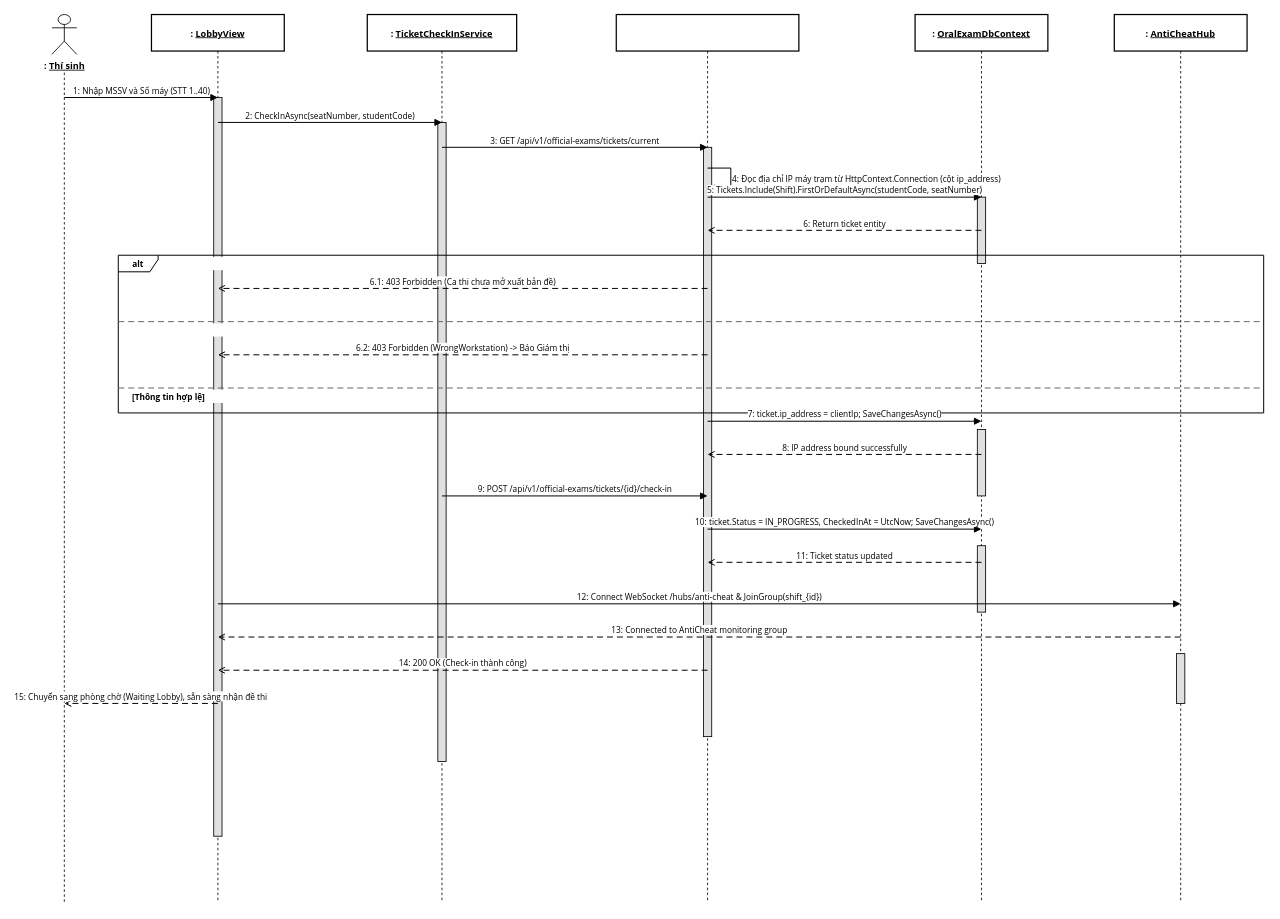
This 1280x919 diagram has some shape labels left out. The centre of each missing label's shape, as x and y in pixels:
: OfficialExamCheckInController: [707,32]
[Ca thi chưa xuất bản đề (!is_exam_published)]: [300,263]
[Sai máy trạm hoặc IP trùng lặp]: [225,329]
